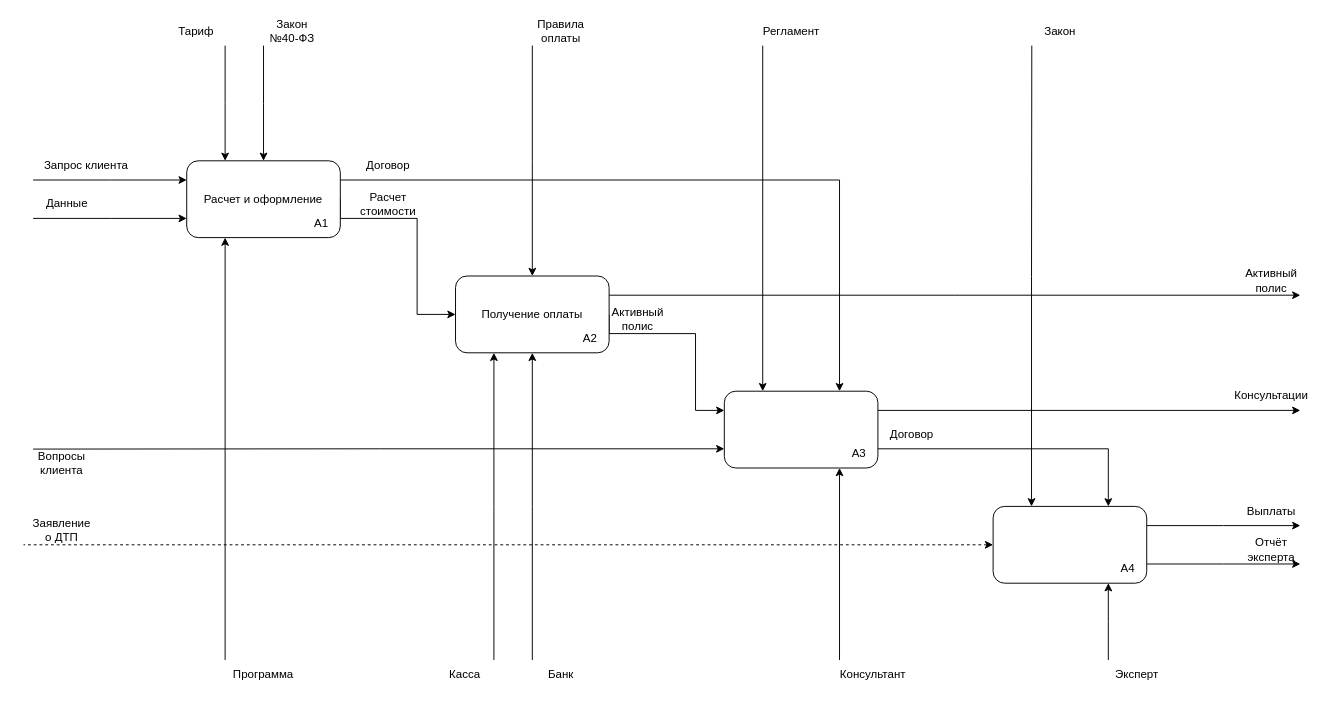
The diagram is 1325 pixels wide and 705 high, and some of its shapes have lost their labels. The box of each missing label's shape, as (x1, y1, x2, y2) in pixels:
Обслуживание в течении срока: (723, 390, 878, 468)
Урегулировать убыток: (992, 505, 1147, 583)
